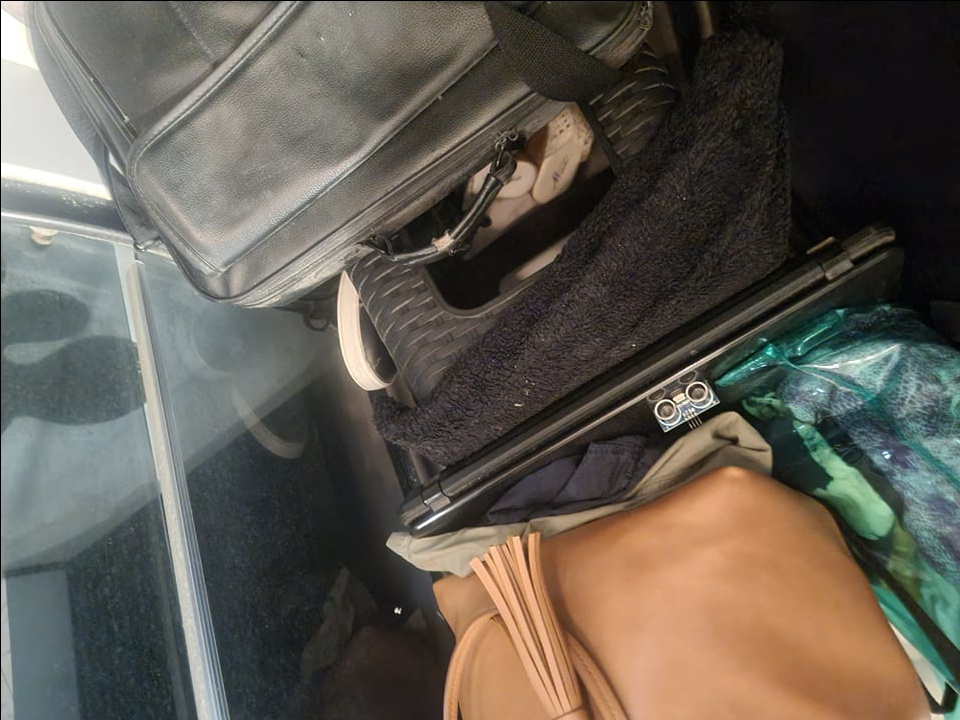SENSOR: (651, 378, 721, 431)
